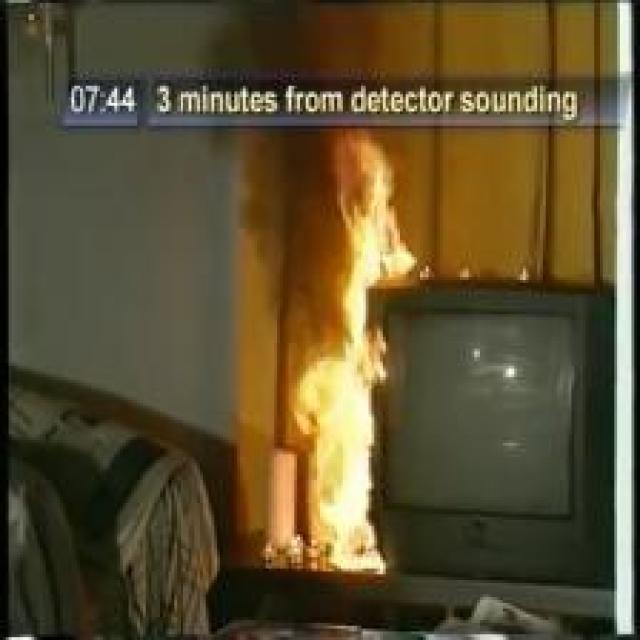Fire: (262, 123, 430, 574)
